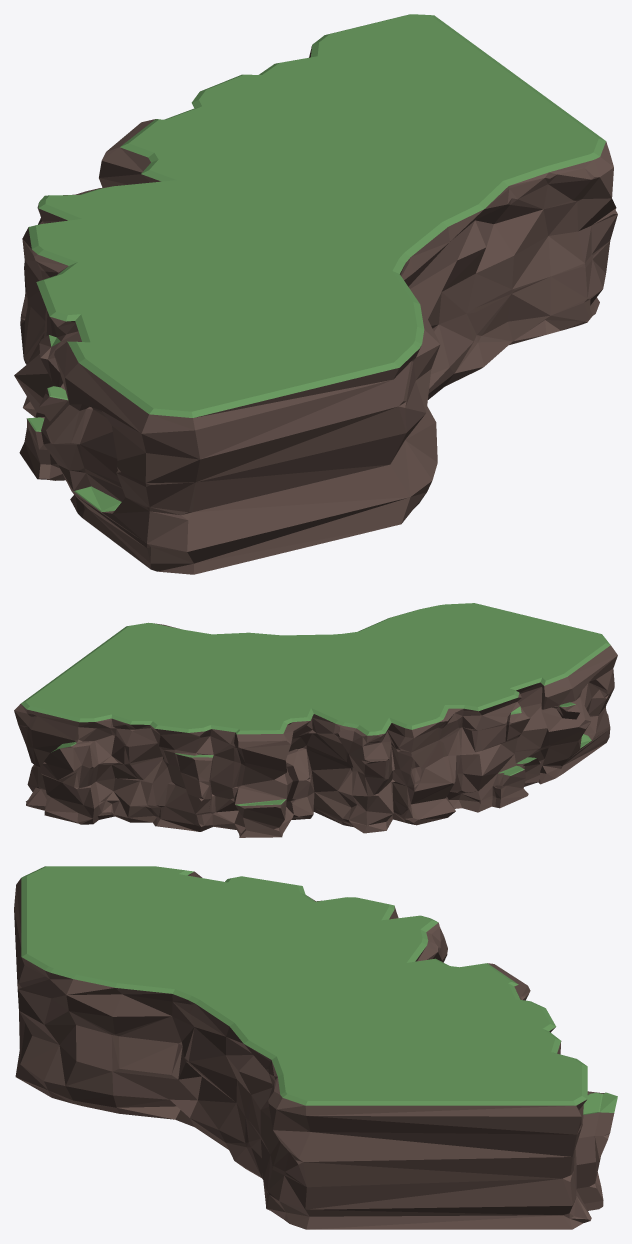
Rendered from Cliff L 8.fbx.
The picture shows the model from 3 angles, top to bottom: view 1: azimuth 30°, elevation 25°; view 2: azimuth 150°, elevation 25°; view 3: azimuth 270°, elevation 25°; orthographic projection. The views are drawn at different scales.
Visible parts, largest first — view 1: Cliff 21; view 2: Cliff 21; view 3: Cliff 21.
Part boxes in pixels (bbox=[...]): Cliff 21: bbox=[14, 14, 617, 574]; Cliff 21: bbox=[14, 603, 617, 837]; Cliff 21: bbox=[14, 866, 617, 1229].
Bounding box in the file's own units: 433 × 102 × 434.
